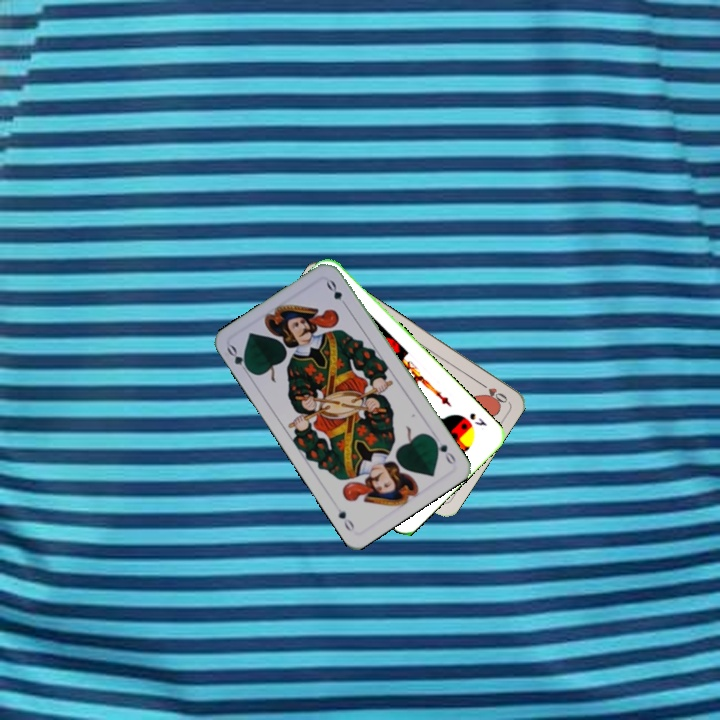GO: (223, 341, 254, 378), (428, 433, 459, 468)
HO: (474, 377, 510, 406)
SK: (465, 409, 489, 429)
